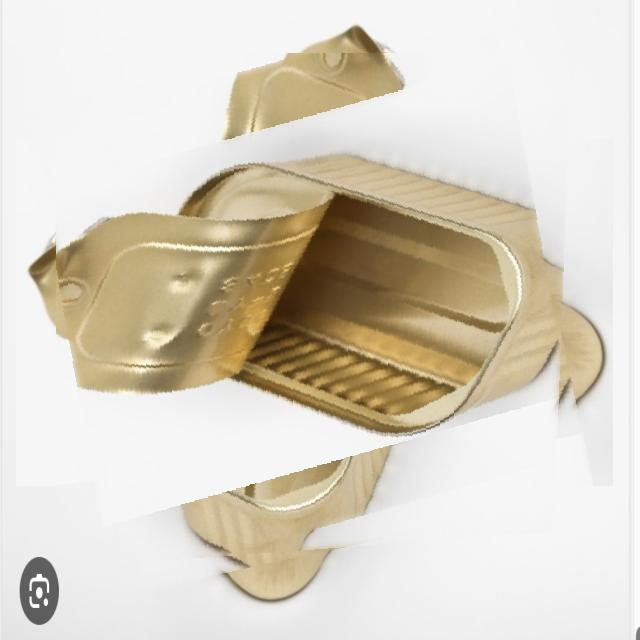recyclable: (56, 53, 573, 570)
